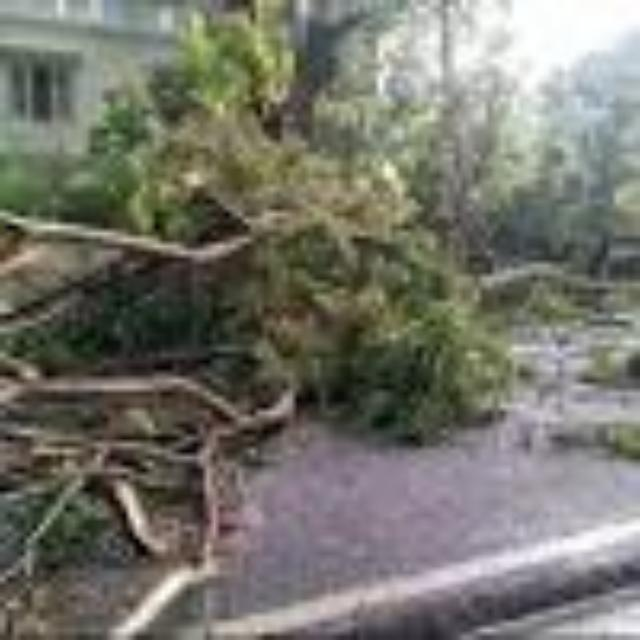fallen_tree: (6, 128, 466, 434), (6, 365, 326, 633), (467, 224, 639, 338)
